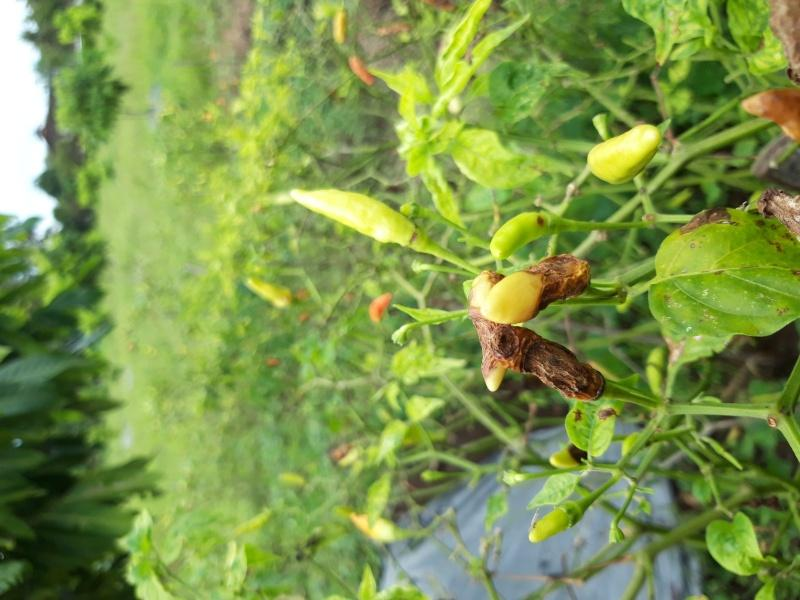antraknosa: (479, 324, 606, 405), (478, 255, 591, 324), (466, 270, 509, 392), (488, 213, 547, 260), (760, 186, 800, 242)
cabai_normal: (293, 187, 415, 244), (585, 125, 660, 186), (530, 507, 568, 542)
